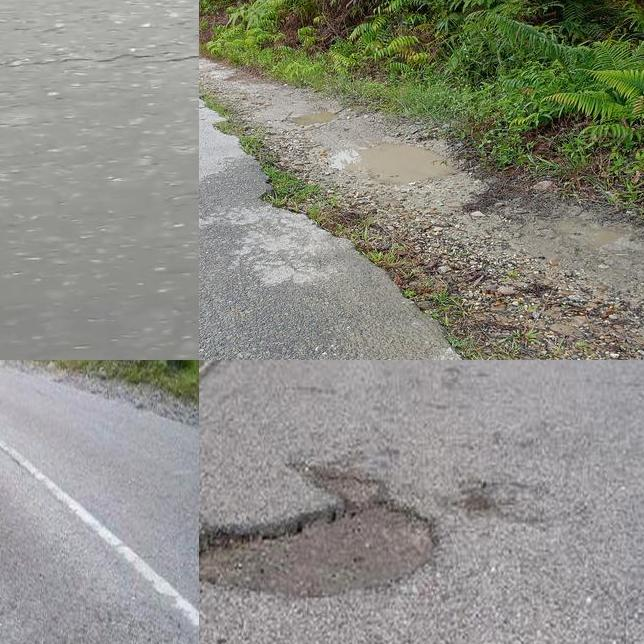Lubang: (199, 504, 441, 600)
Pinggir: (199, 67, 510, 360)
